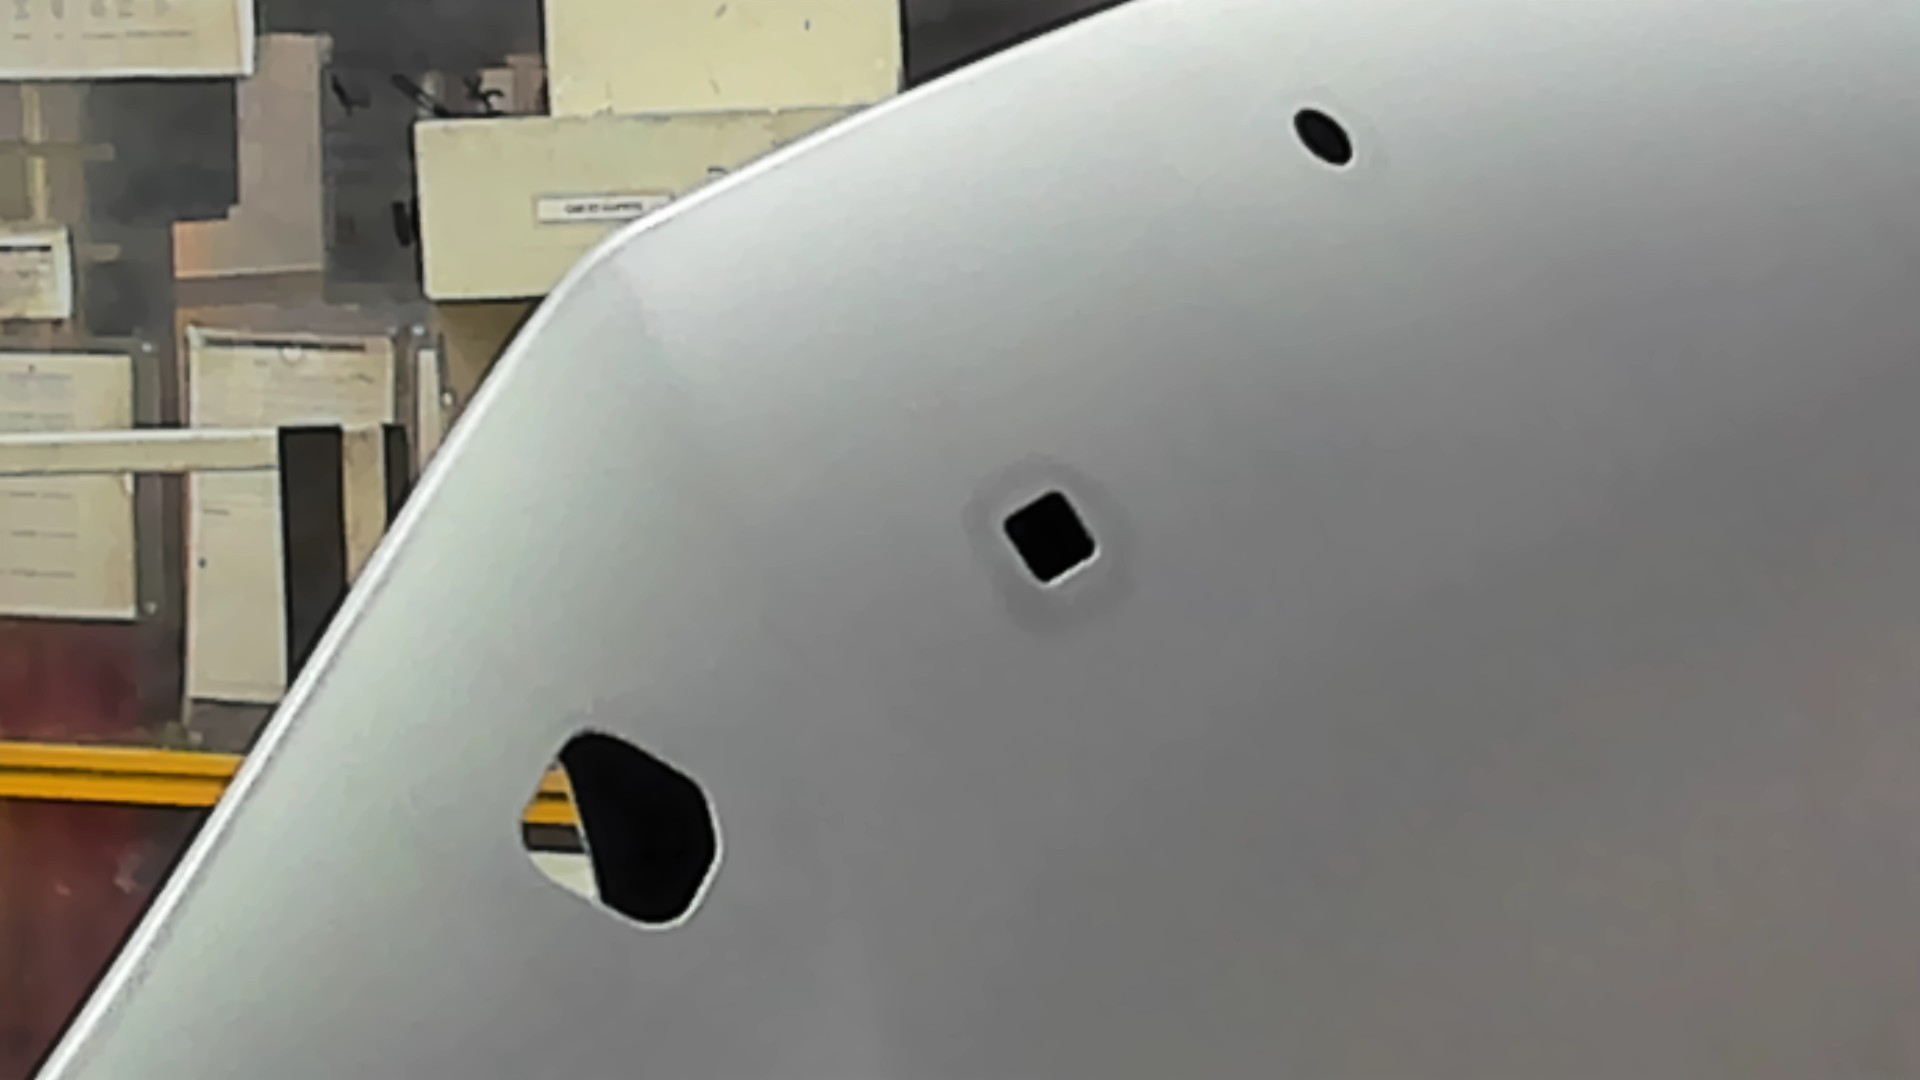capo: (1102, 175, 1920, 1080)
chico: (1288, 102, 1364, 171)
grande: (509, 717, 729, 942)
mediano: (988, 483, 1104, 595)
